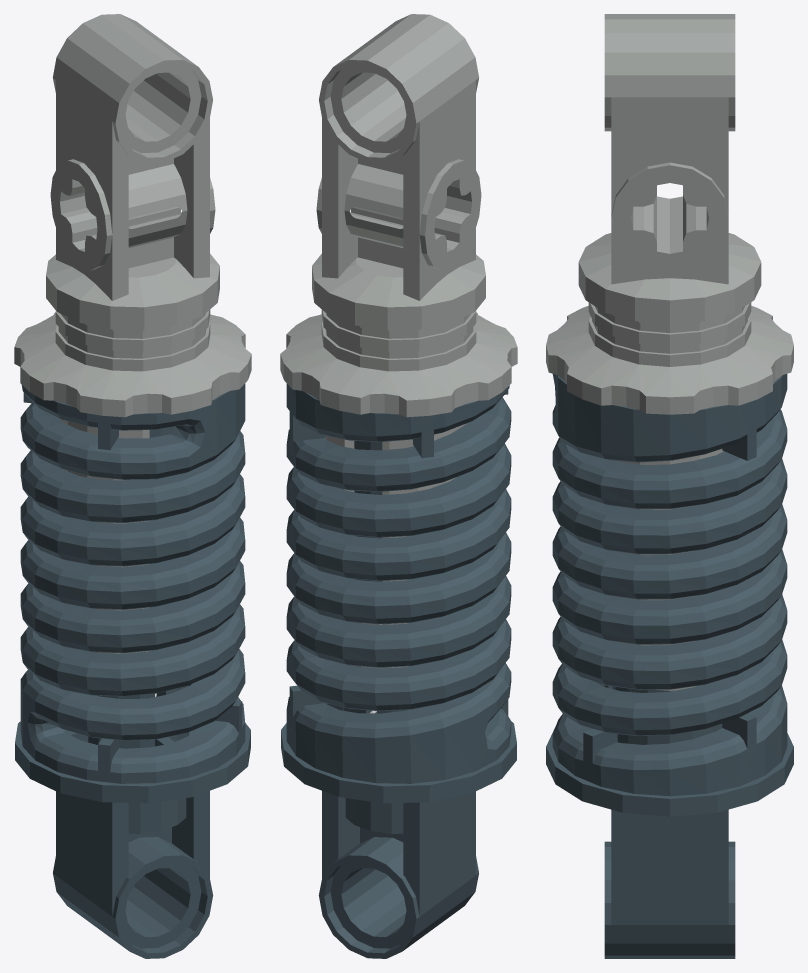
3 renders of one model, left to right at view 1: azimuth 30°, elevation 25°; view 2: azimuth 150°, elevation 25°; view 3: azimuth 270°, elevation 25°, orthographic. The views are drawn at different scales.
Visible parts, largest first — view 1: world; view 2: world; view 3: world.
Boxes of the visible parts, x1,y1,x2,y2 form: world: (14,14,251,958); world: (280,14,517,958); world: (546,14,793,958).
Bounding box in the file's own units: 0.0152 × 0.0632 × 0.0152.
